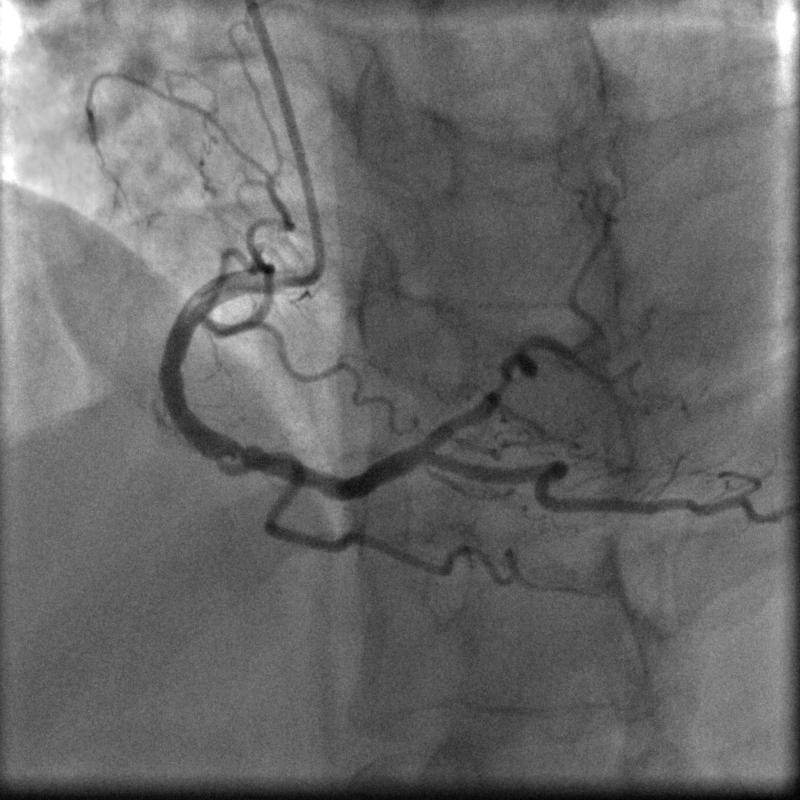Stenosis: (483, 365, 515, 399)
